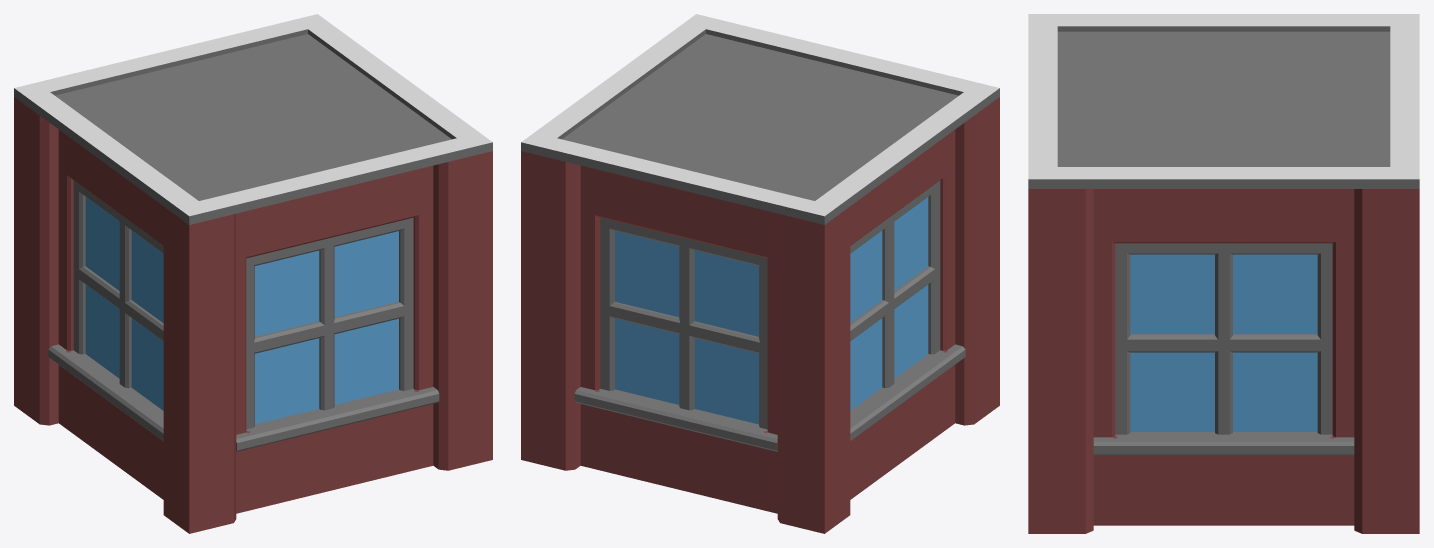
File: building_wall.fbx
The picture shows the model from 3 angles, left to right: view 1: azimuth 30°, elevation 25°; view 2: azimuth 150°, elevation 25°; view 3: azimuth 270°, elevation 25°; orthographic projection. The views are drawn at different scales.
Parts seen in each view (by area): view 1: building_wall; view 2: building_wall; view 3: building_wall.
Part boxes in pixels (box(x1,y1,x2,y2)): building_wall: box(14, 14, 492, 533); building_wall: box(521, 14, 999, 533); building_wall: box(1028, 14, 1419, 533).
Size of the model in its own units: 200 by 200 by 200.
